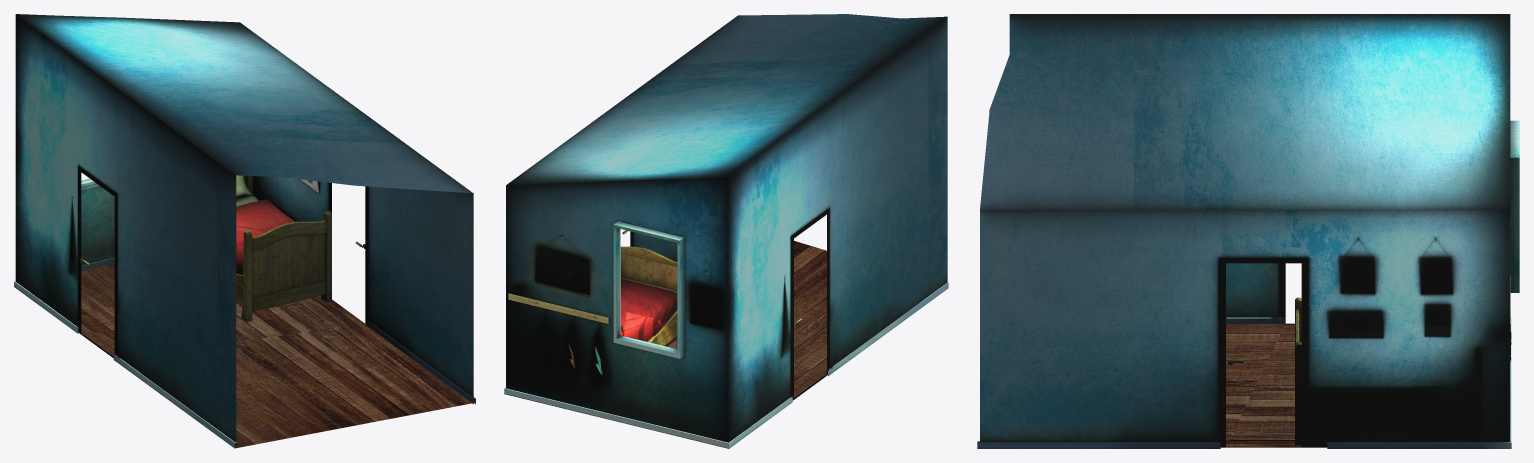
The model's file is cuarto.obj.
The picture shows the model from 3 angles, left to right: view 1: azimuth 30°, elevation 25°; view 2: azimuth 150°, elevation 25°; view 3: azimuth 270°, elevation 25°; orthographic projection. The views are drawn at different scales.
Parts seen in each view (by area): view 1: env Enter_a_title:walls, env Enter_a_title:rest, env Enter_a_title:bad, env Enter_a_title:bad_for; view 2: env Enter_a_title:walls, env Enter_a_title:rest, env Enter_a_title:bad_for, env Enter_a_title:bad, Enter_a_title:veshalka env; view 3: env Enter_a_title:walls, env Enter_a_title:rest, env Enter_a_title:bad.
Boxes of the visible parts, box(x1,y1,x2,y2) form: env Enter_a_title:walls: box(15, 14, 473, 447); env Enter_a_title:rest: box(14, 14, 475, 448); env Enter_a_title:bad: box(236, 175, 331, 322); env Enter_a_title:bad_for: box(236, 175, 294, 274); env Enter_a_title:walls: box(506, 17, 947, 442); env Enter_a_title:rest: box(504, 14, 948, 448); env Enter_a_title:bad_for: box(620, 277, 677, 341); env Enter_a_title:bad: box(620, 246, 677, 347); Enter_a_title:veshalka env: box(508, 230, 802, 376); env Enter_a_title:walls: box(980, 120, 1519, 447); env Enter_a_title:rest: box(977, 14, 1511, 448); env Enter_a_title:bad: box(1295, 297, 1301, 445).
Bounding box in the file's own units: 3.36 × 3.85 × 6.1.
Materials: 6 (6 with a texture image).
